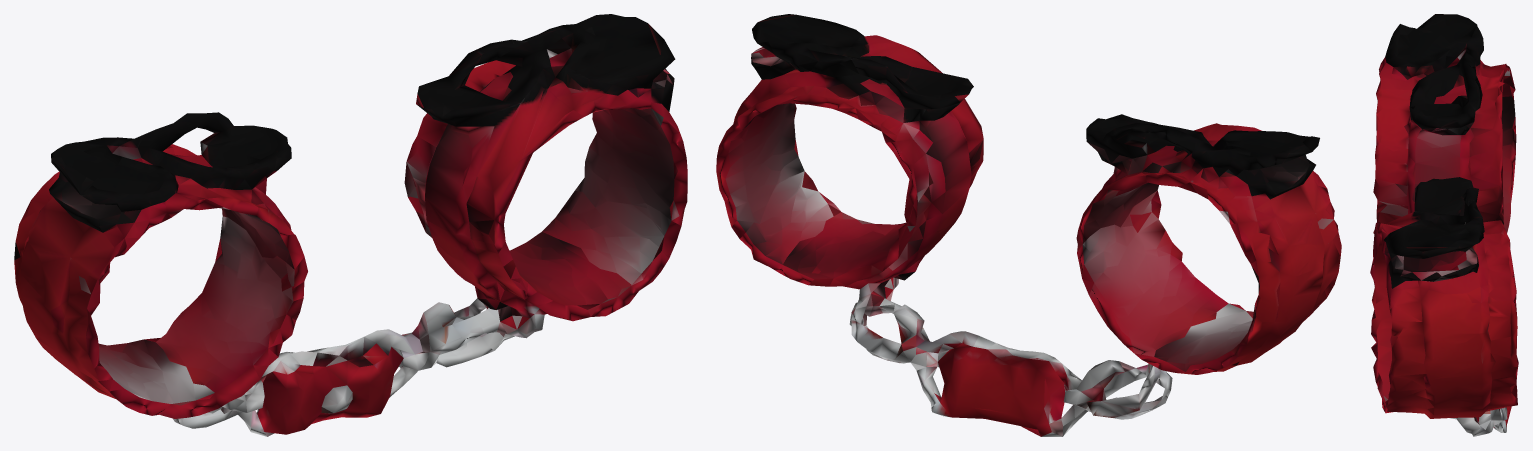
File: cuffs.glb
3 renders of one model, left to right at view 1: azimuth 30°, elevation 25°; view 2: azimuth 150°, elevation 25°; view 3: azimuth 270°, elevation 25°, orthographic. The views are drawn at different scales.
Visible parts, largest first — view 1: texture_pbr_v128; view 2: texture_pbr_v128; view 3: texture_pbr_v128.
Boxes of the visible parts, x1,y1,x2,y2 form: texture_pbr_v128: [14, 14, 687, 436]; texture_pbr_v128: [716, 14, 1341, 436]; texture_pbr_v128: [1370, 14, 1518, 436].
Bounding box in the file's own units: 0.549 × 0.3008 × 0.1429.
1 material, 1 textured.
